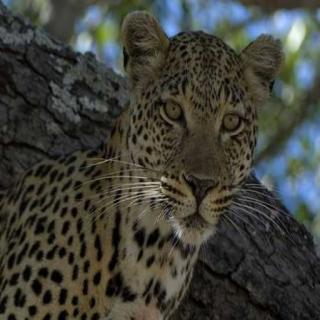Leopard: (43, 0, 293, 320)
